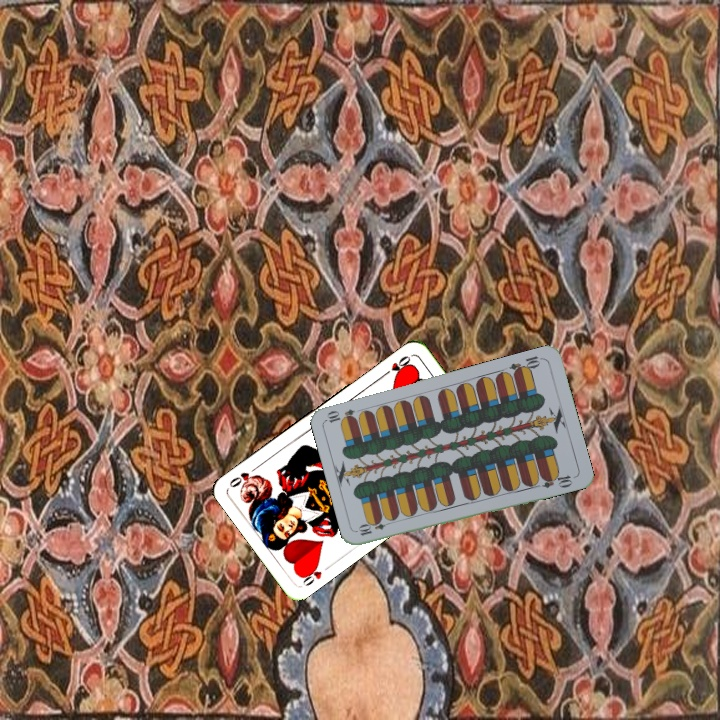E10: (506, 352, 546, 378), (355, 516, 395, 538)
HO: (297, 560, 334, 589), (378, 351, 413, 379)
